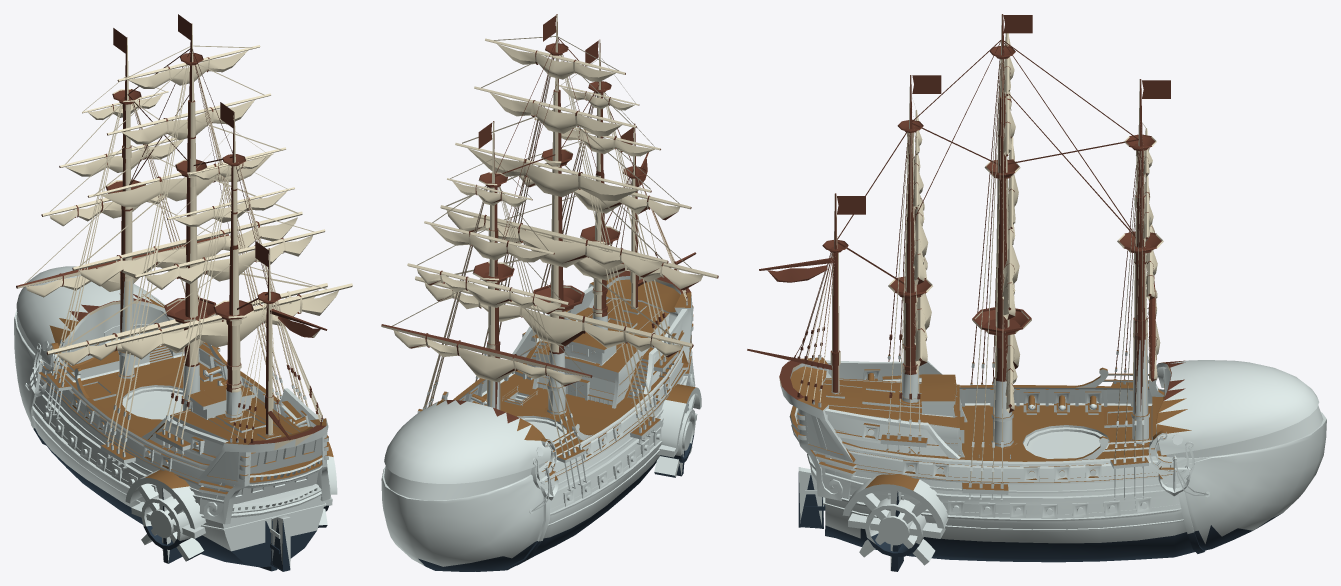
File: moby-dick.glb
3 renders of one model, left to right at view 1: azimuth 30°, elevation 25°; view 2: azimuth 150°, elevation 25°; view 3: azimuth 270°, elevation 25°, orthographic. The views are drawn at different scales.
Visible parts, largest first — view 1: Object_2.021; view 2: Object_2.021; view 3: Object_2.021.
Part boxes in pixels (x1,y1,x2,y2): Object_2.021: (14,14,352,571); Object_2.021: (381,14,718,571); Object_2.021: (747,14,1326,571).
Bounding box in the file's own units: 72.79 × 124 × 122.
Materials: 1 (1 with a texture image).
